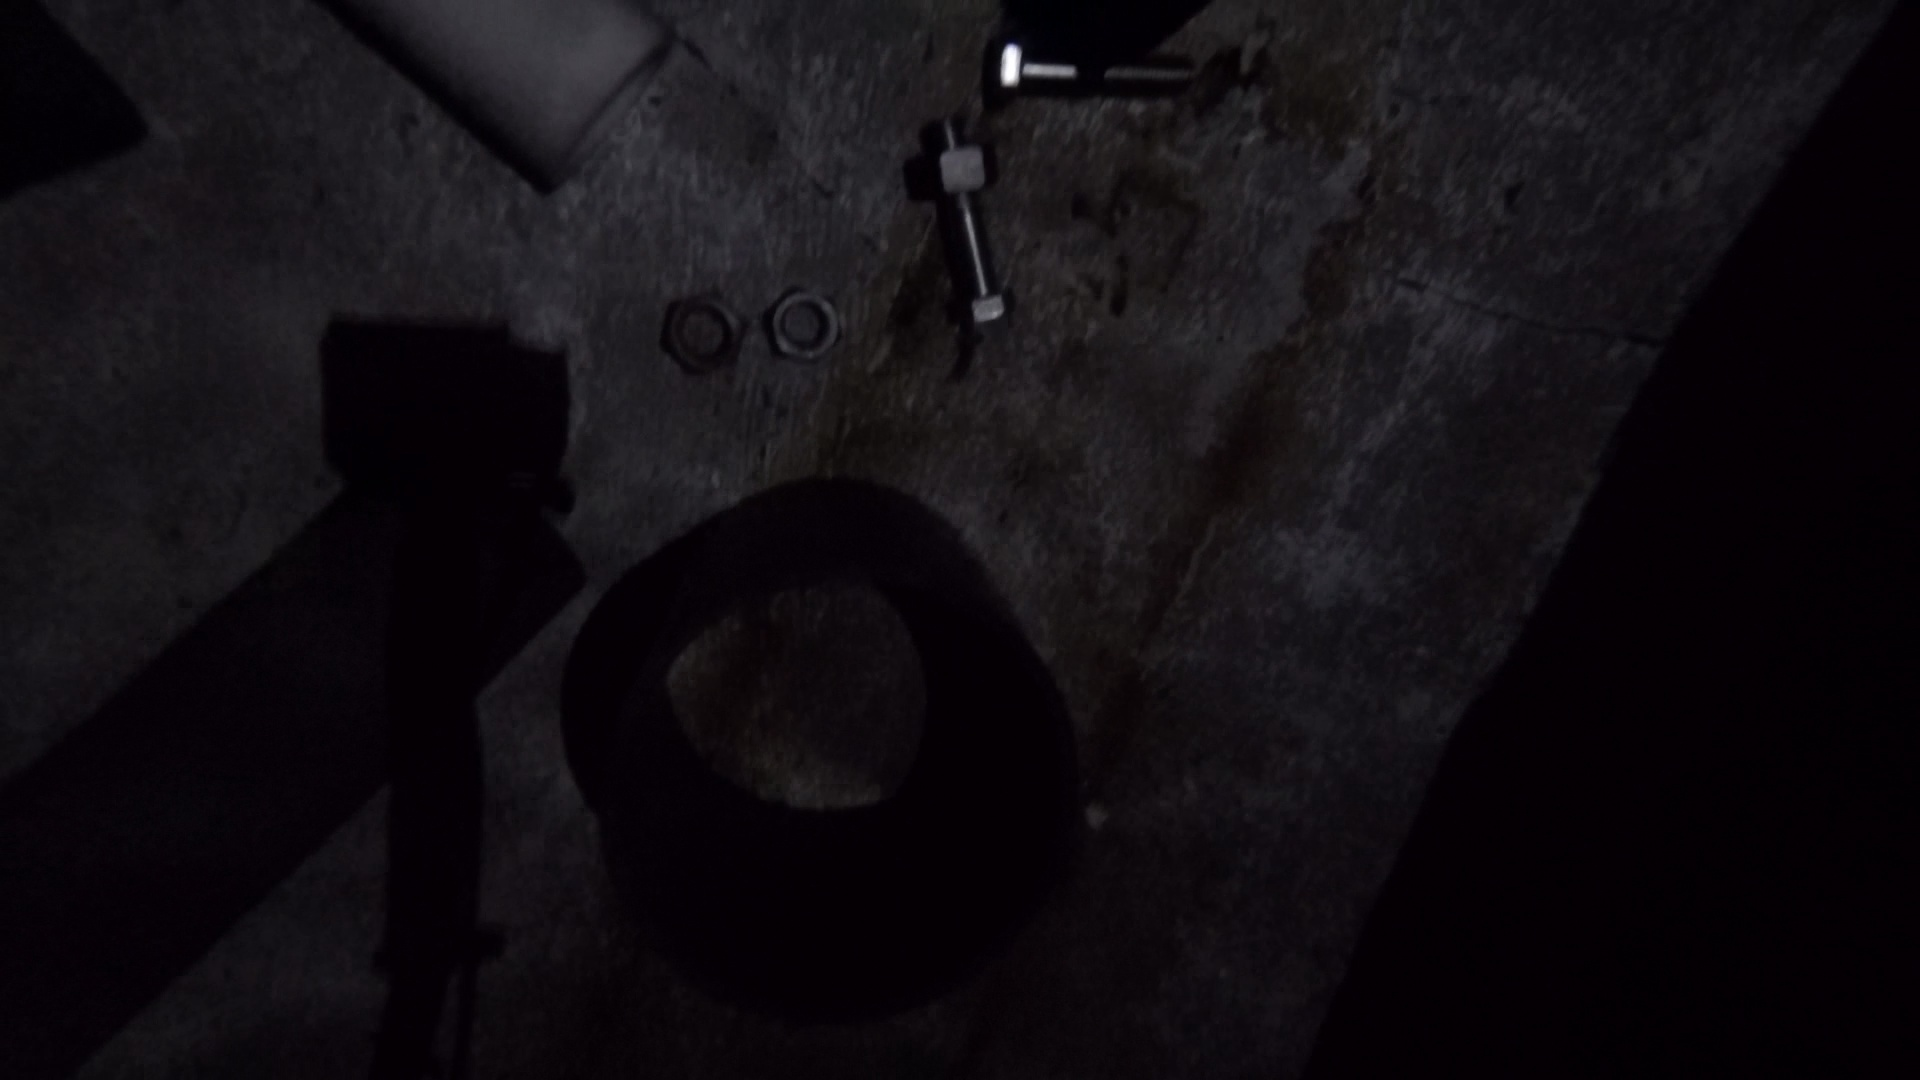bolt: (919, 116, 1019, 327), (982, 36, 1196, 104)
nut: (659, 291, 748, 377), (764, 286, 845, 367), (902, 142, 1002, 200)
pipe: (1, 458, 584, 1077), (595, 475, 1076, 1027), (315, 1, 673, 195)
